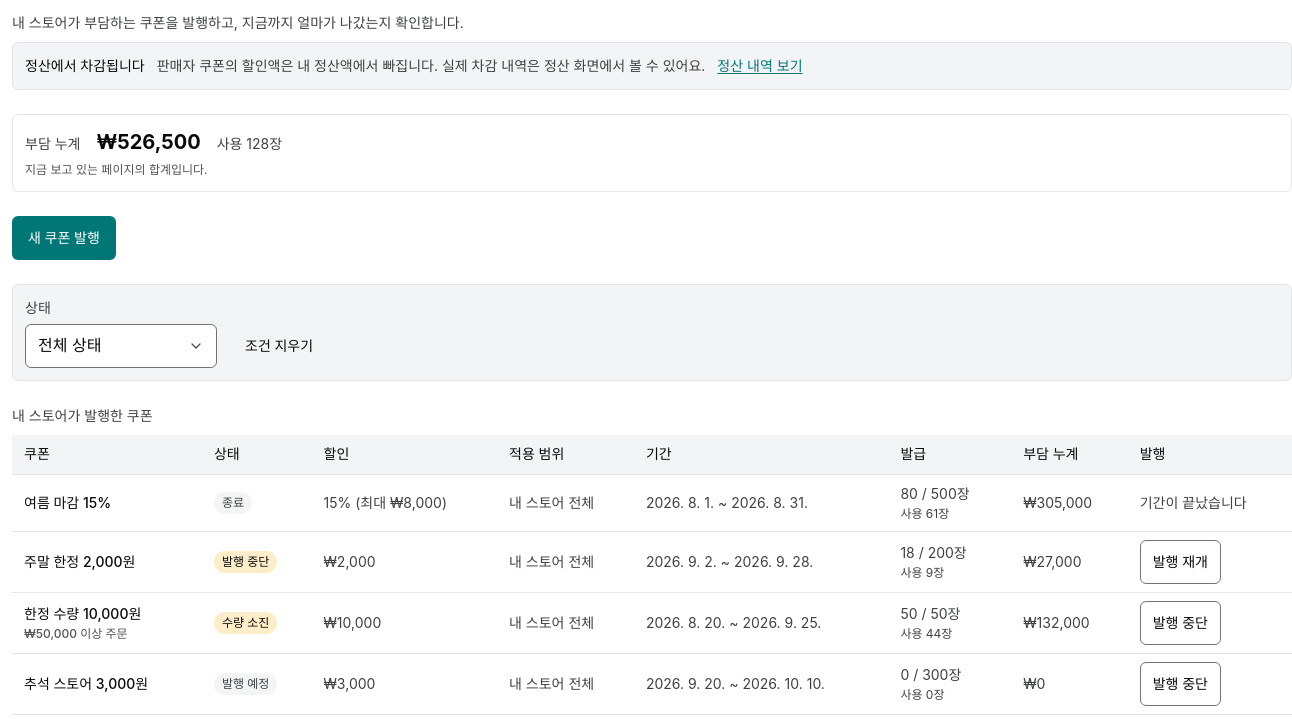
Scenario: F1 — 범위 제한 › offers only this store and its products — never 전체 or 카테고리
Click the button "새 쿠폰 발행".
click(64, 238)  # box [12, 216, 116, 260]
(page scrolled)
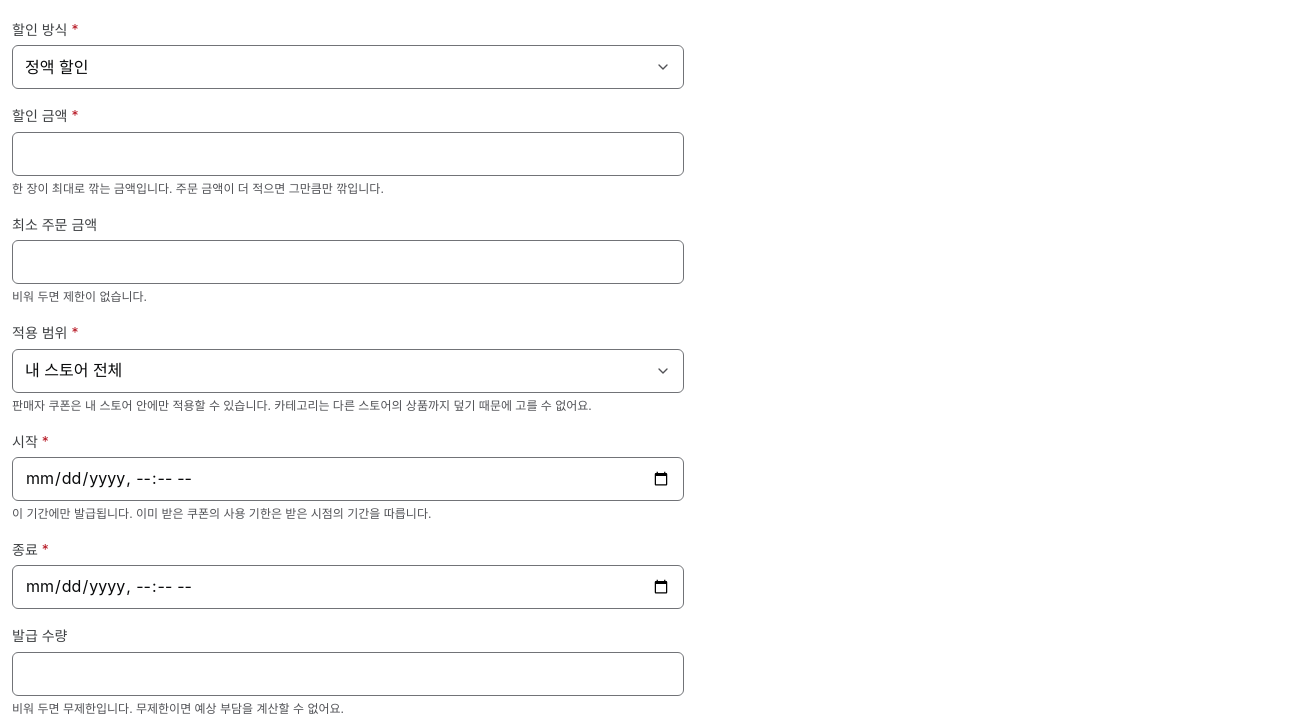
Click the dropdown named "적용 범위".
click(74, 370)  # box [12, 348, 684, 392]
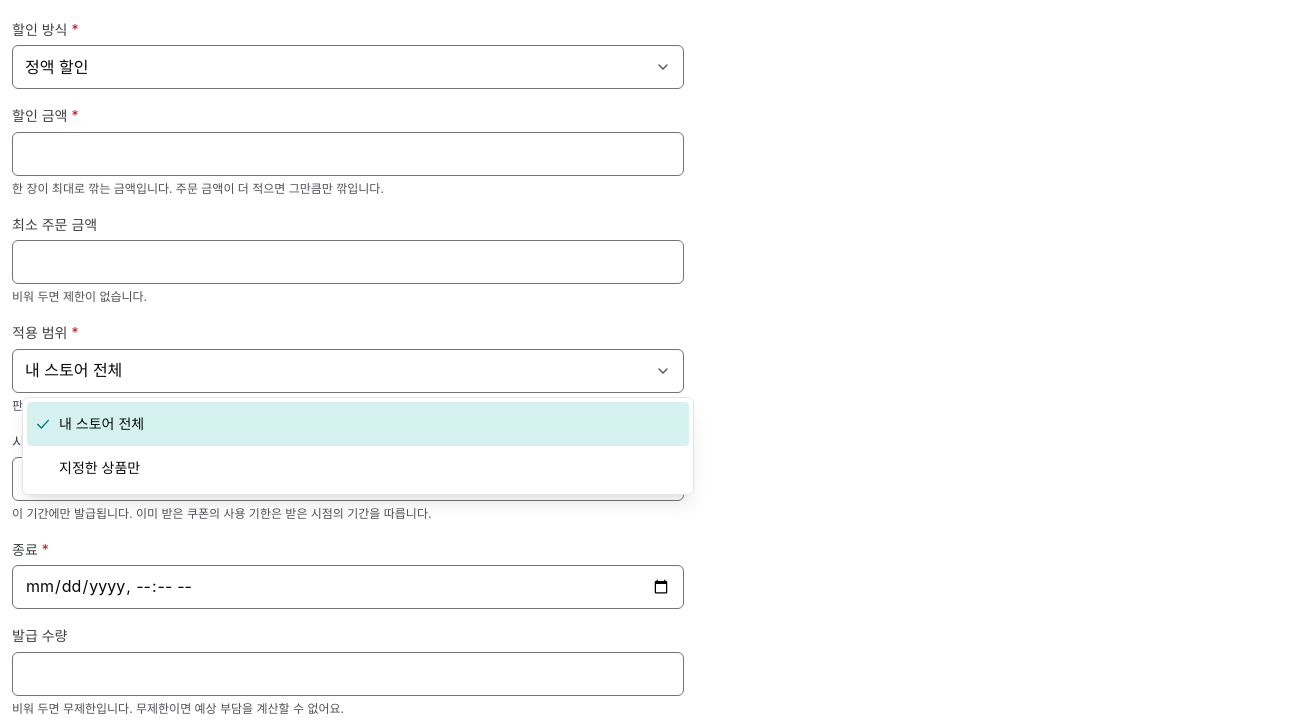
Check: the options read "내 스토어 전체", "지정한 상품만", in this order, box [27, 402, 689, 446]; [59, 459, 140, 476]
